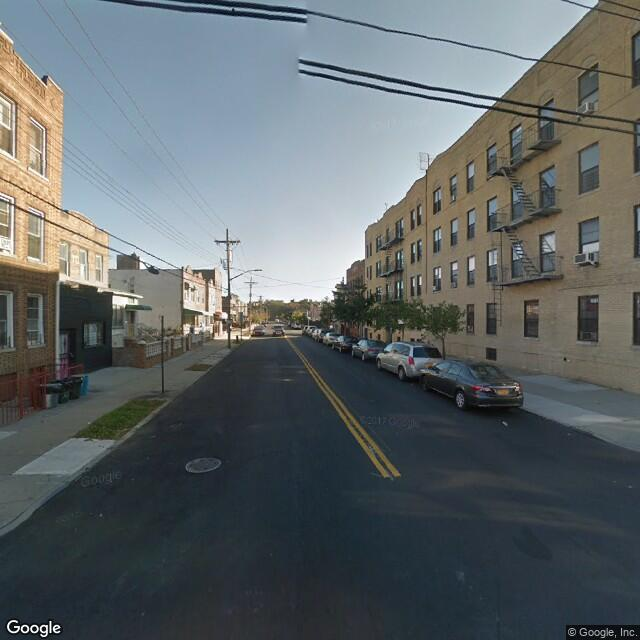litter: (498, 418, 508, 426)
